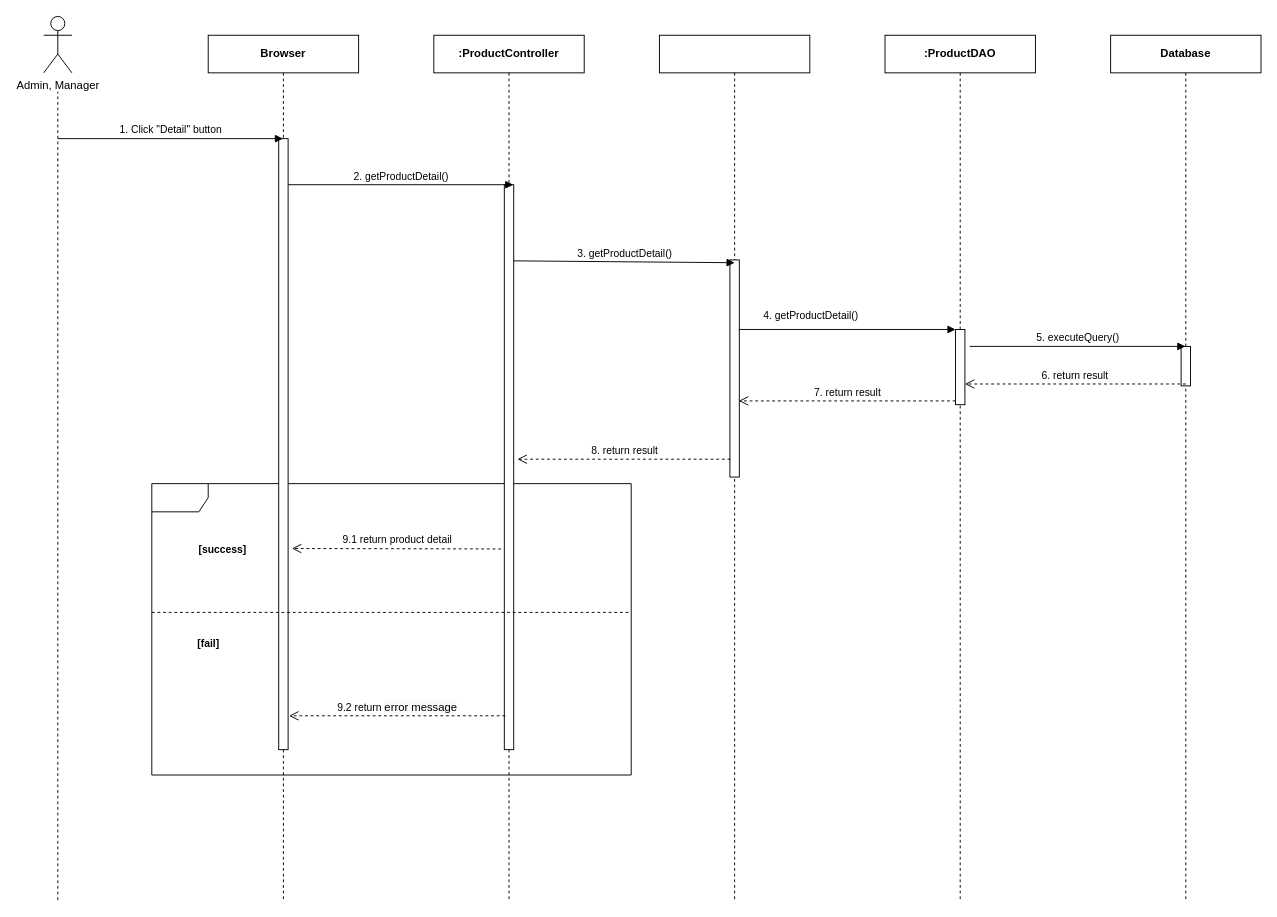
Image size: 1277x917. Some labels were removed from this diagram. Here are the shapes that lost their labels. From the top down, the box of each, then its label:
(658, 34, 810, 900): :ProductService
(151, 483, 631, 775): alt
